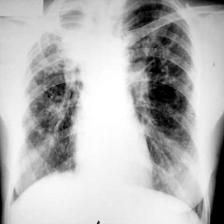tuberculosis: (0, 0, 210, 224)
